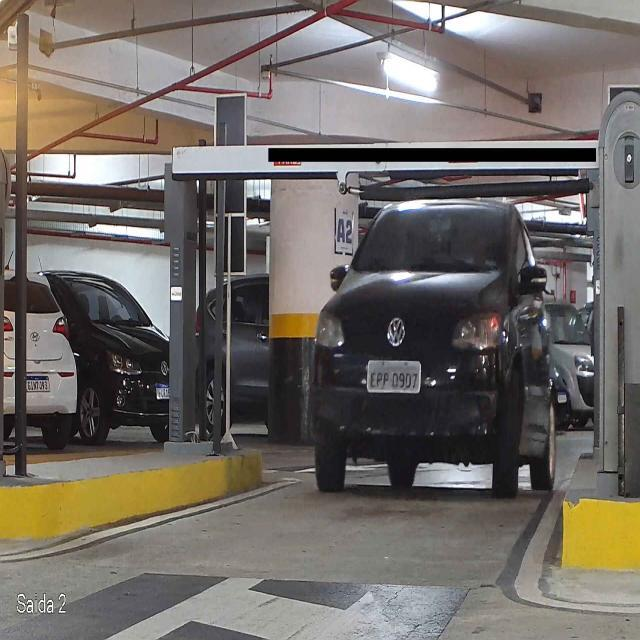old_plate: (364, 358, 424, 395)
